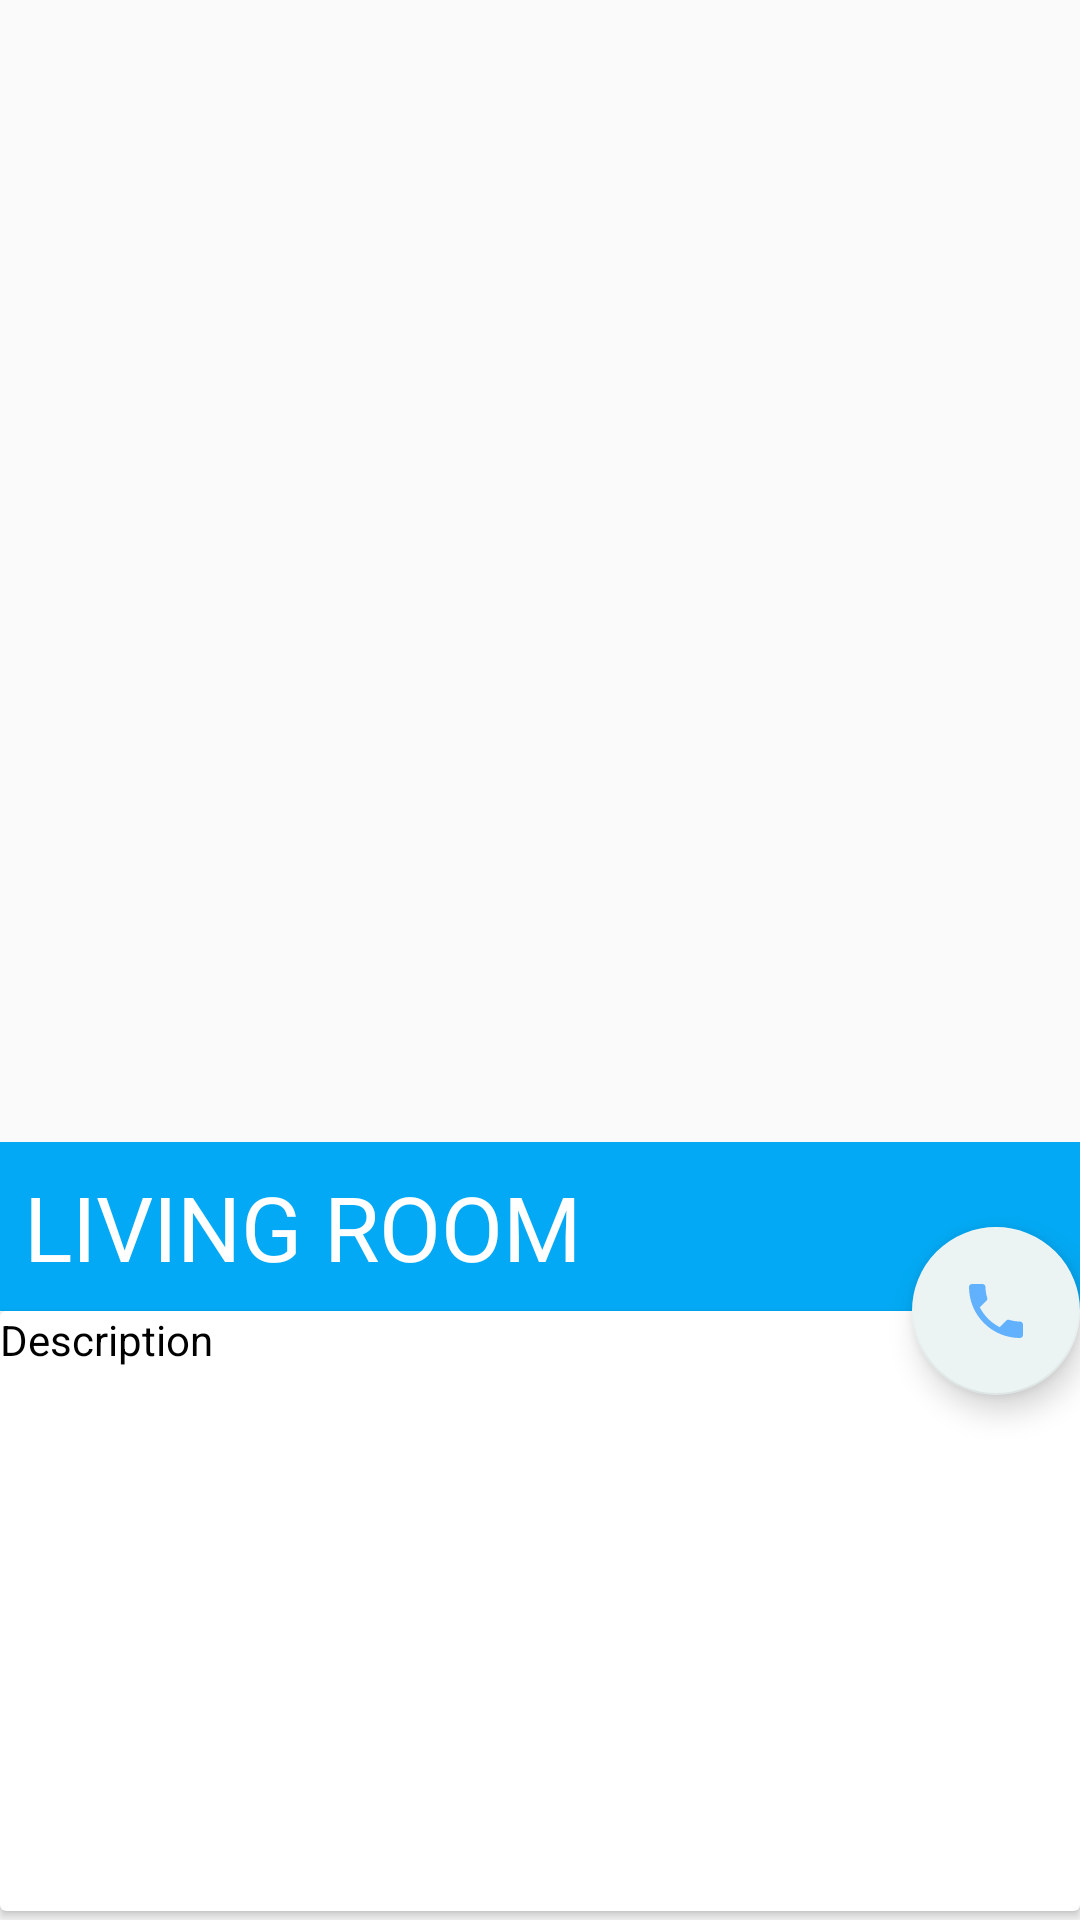

Screen size 1080x1920. Icon name, then its center in pixels as (x,y):
call: (996,1311)
